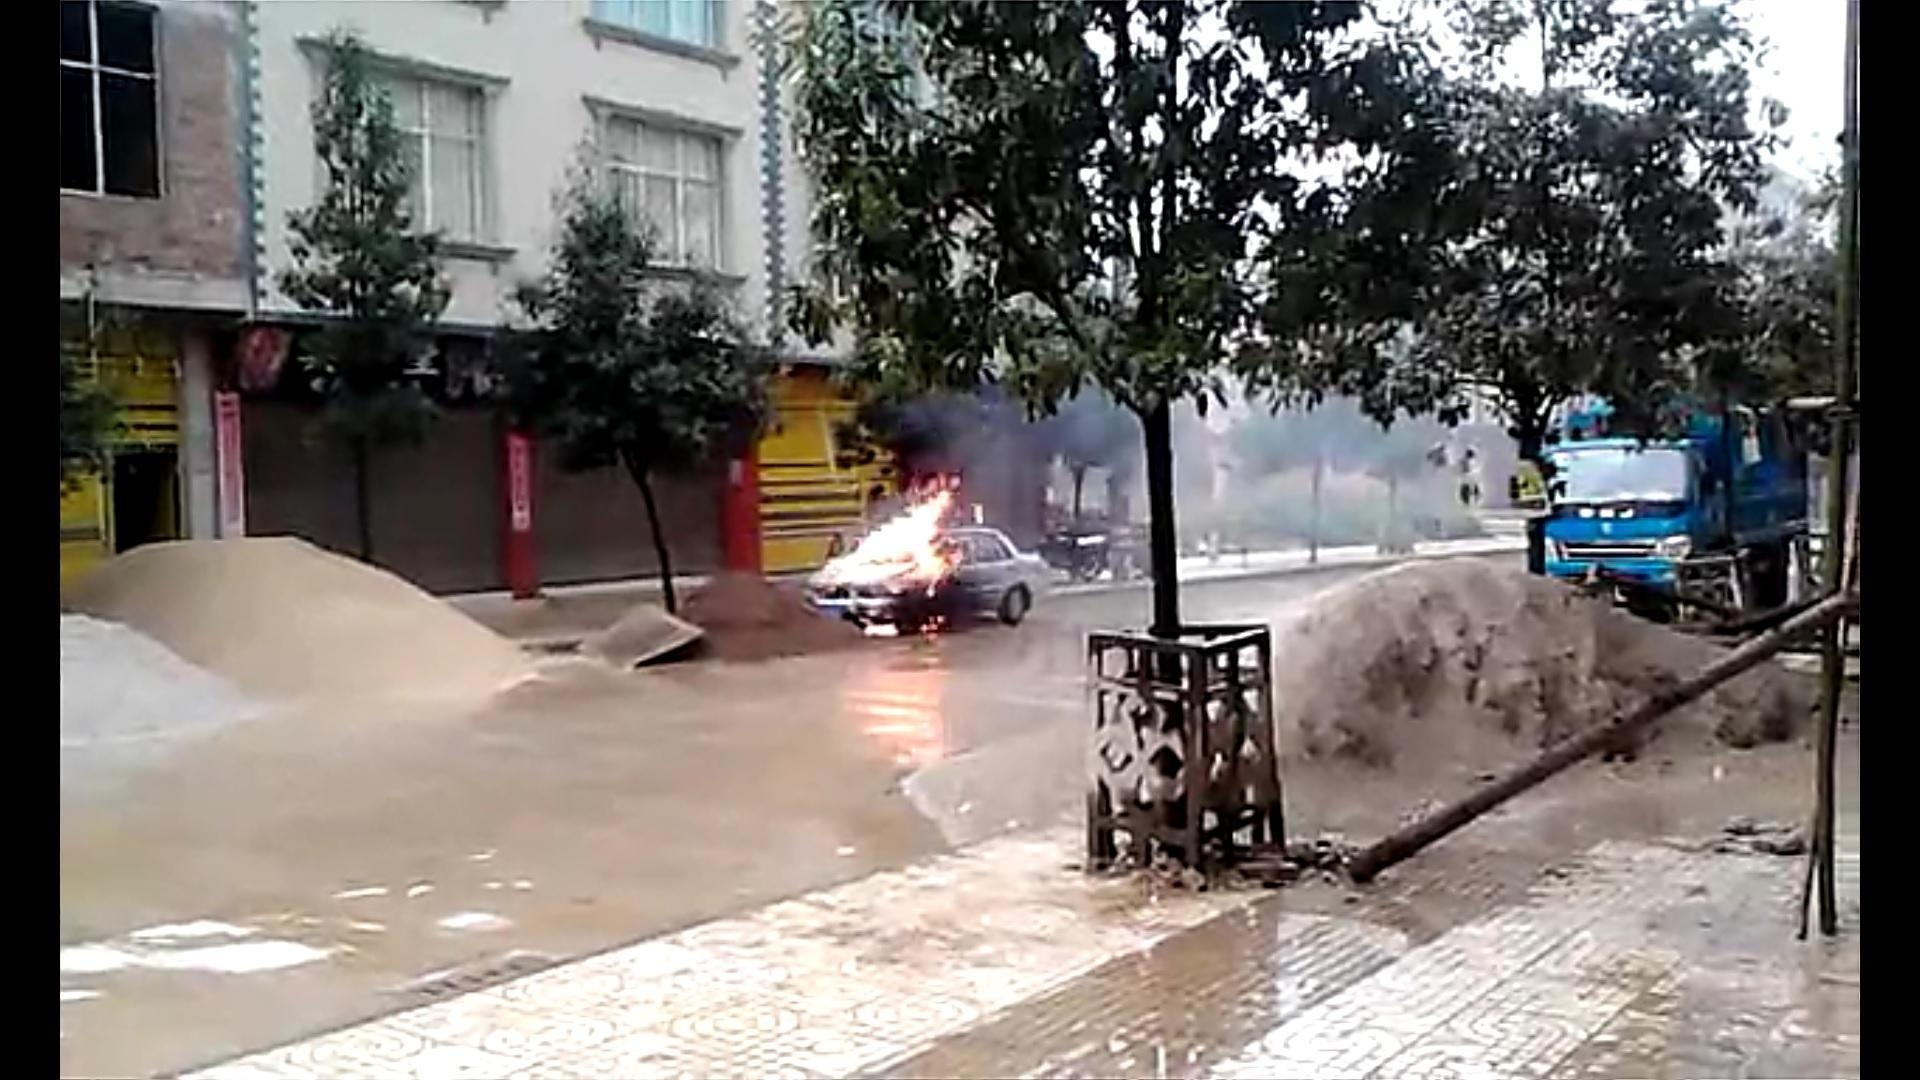fire: (816, 469, 959, 632)
